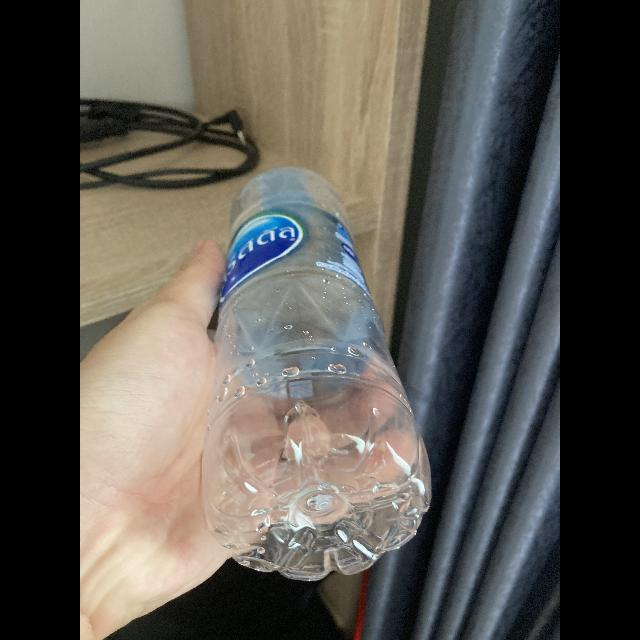plastic_bottle: (195, 158, 438, 590)
